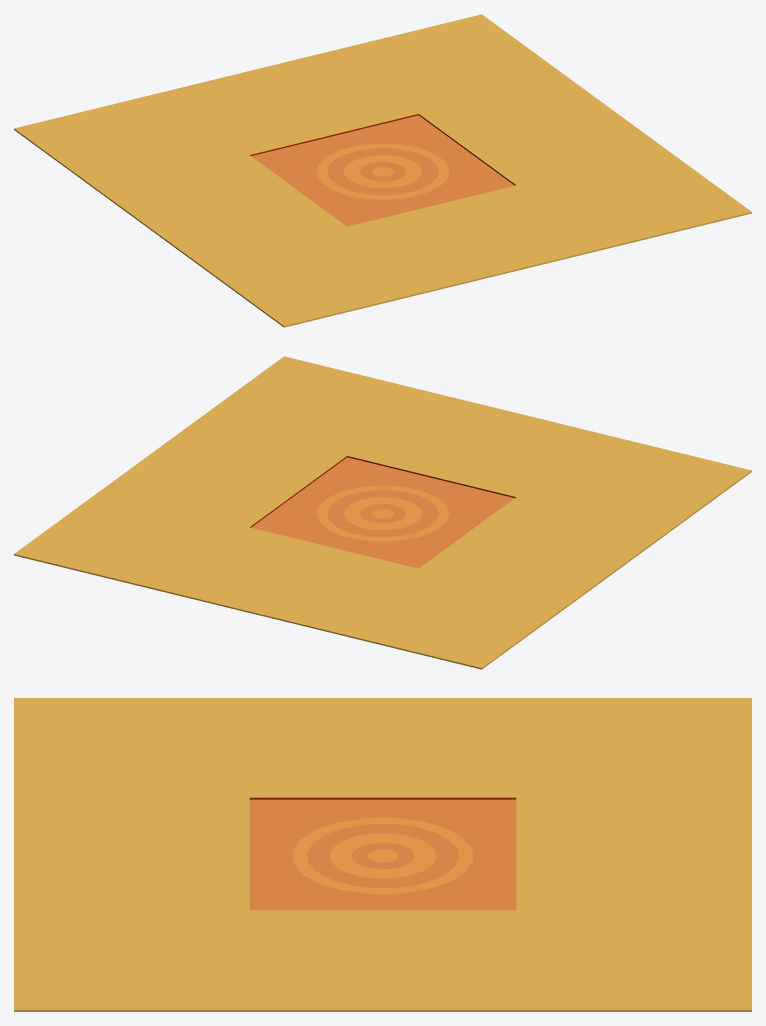
Rendered from Desert_Plane.fbx.
3 views of the same model, one above another, from view 1: azimuth 30°, elevation 25°; view 2: azimuth 150°, elevation 25°; view 3: azimuth 270°, elevation 25° (orthographic). The views are drawn at different scales.
Visible parts, largest first — view 1: 1_Desert_Plane; view 2: 1_Desert_Plane; view 3: 1_Desert_Plane.
Boxes of the visible parts, left/top/right/bottom form: 1_Desert_Plane: left=14, top=14, right=751, bottom=327; 1_Desert_Plane: left=14, top=356, right=751, bottom=669; 1_Desert_Plane: left=14, top=698, right=751, bottom=1011.
Bounding box in the file's own units: 233 × 233 × 0.7101.
